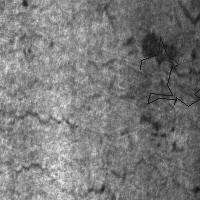crazing: (1, 109, 131, 193), (140, 37, 200, 106), (86, 60, 142, 100), (140, 29, 178, 65)
